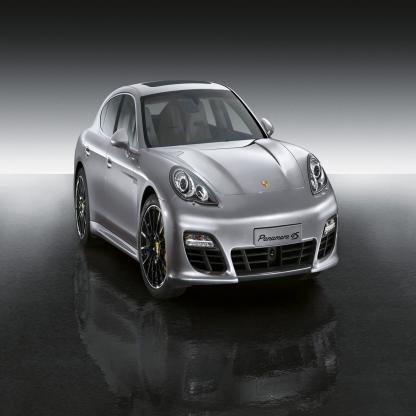Vehicle: (75, 79, 339, 306)
